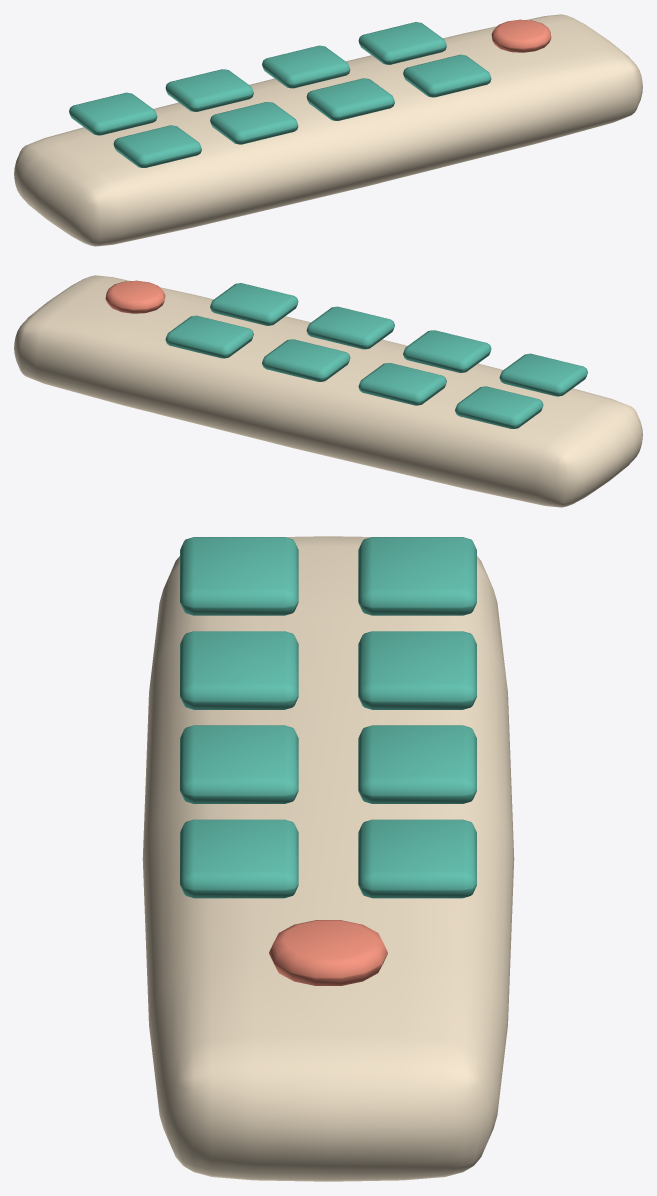
Rendered from remote_c.glb.
3 views of the same model, one above another, from view 1: azimuth 30°, elevation 25°; view 2: azimuth 150°, elevation 25°; view 3: azimuth 270°, elevation 25° (orthographic). The views are drawn at different scales.
Visible parts, largest first — view 1: body; view 2: body; view 3: body.
Part boxes in pixels (x1,y1,x2,y2): body: (14,14,642,246); body: (14,275,642,507); body: (142,536,514,1181).
Size of the model in its own units: 0.18 by 0.028 by 0.05.
